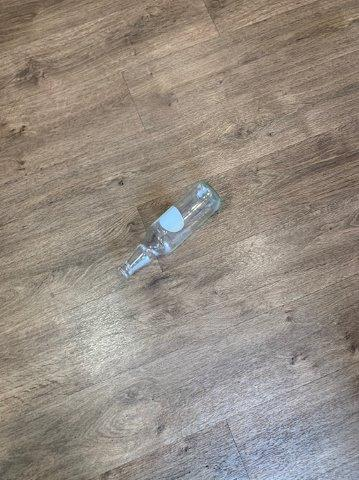botolkaca: (119, 182, 223, 278)
